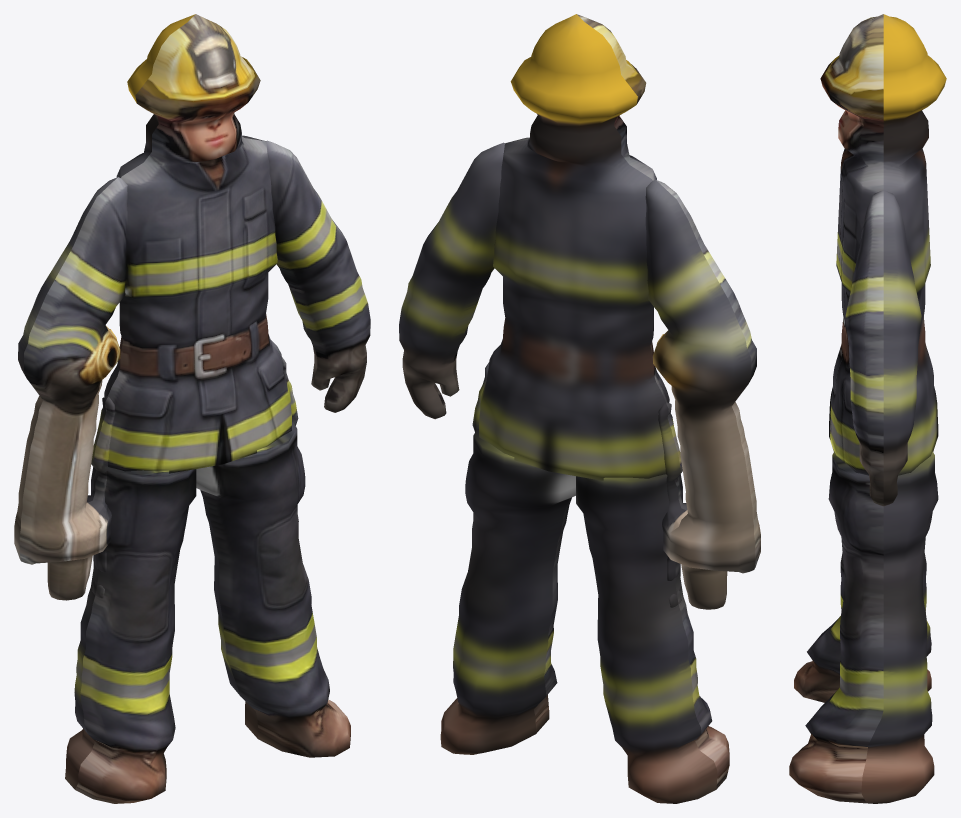
Rendered from char_firefighter.glb.
3 renders of one model, left to right at view 1: azimuth 30°, elevation 25°; view 2: azimuth 150°, elevation 25°; view 3: azimuth 270°, elevation 25°, orthographic. The views are drawn at different scales.
Visible parts, largest first — view 1: Torso, ArmA, LegA, LegB, ArmB; view 2: Torso, ArmA, LegA, LegB, ArmB; view 3: LegB, Torso, ArmB, LegA.
Part boxes in pixels (x1,y1,x2,y2): Torso: (100,14,291,473); ArmA: (14,177,127,600); LegA: (65,467,196,803); LegB: (196,422,350,757); ArmB: (266,140,370,425); Torso: (479,14,673,480); ArmA: (645,179,760,609); LegA: (576,474,729,803); LegB: (440,428,575,754); ArmB: (399,142,504,431); LegB: (789,451,938,803); Torso: (820,14,946,475); ArmB: (845,190,921,506); LegA: (794,552,931,702).
Size of the model in its own units: 0.7311 by 1.52 by 0.2922.
1 material, 1 textured.
